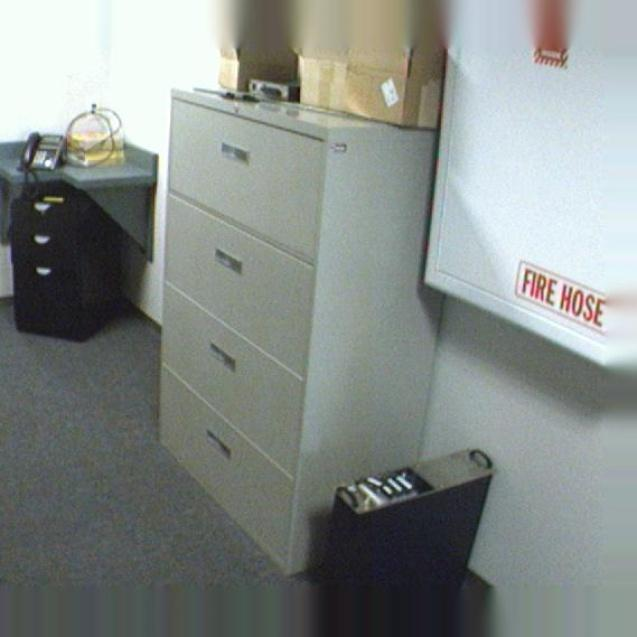Filing Cabinet: (158, 88, 329, 577)
